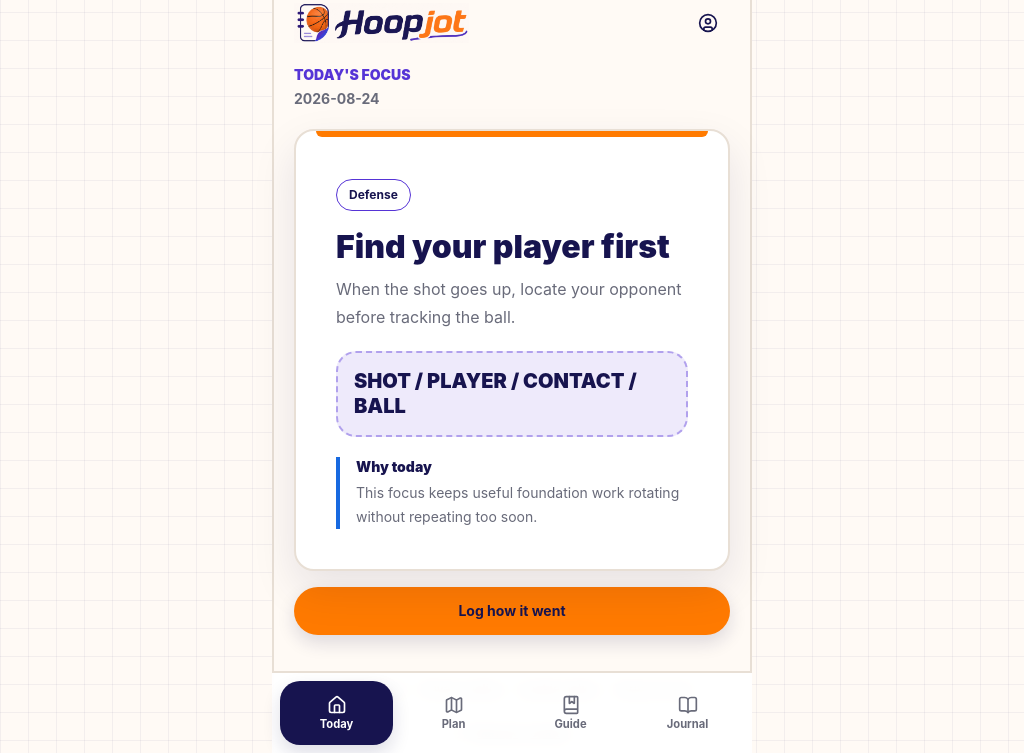
TodayRoute › reuses an incomplete Game session and changes it to Practice when the user keeps the default
Step 1. Click the button "Log how it went" → (512, 611), box x1=294 y1=587 x2=730 y2=635
(page scrolled)
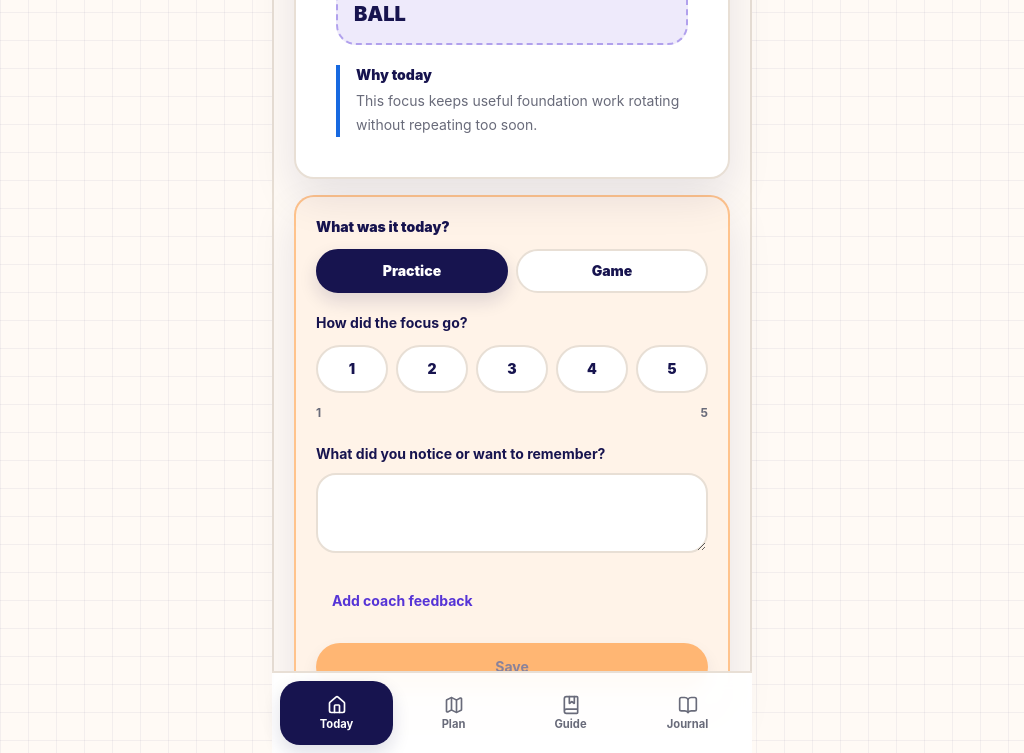
Step 2. Click the radio button named "4 of 5" → (592, 369), box x1=556 y1=345 x2=628 y2=393
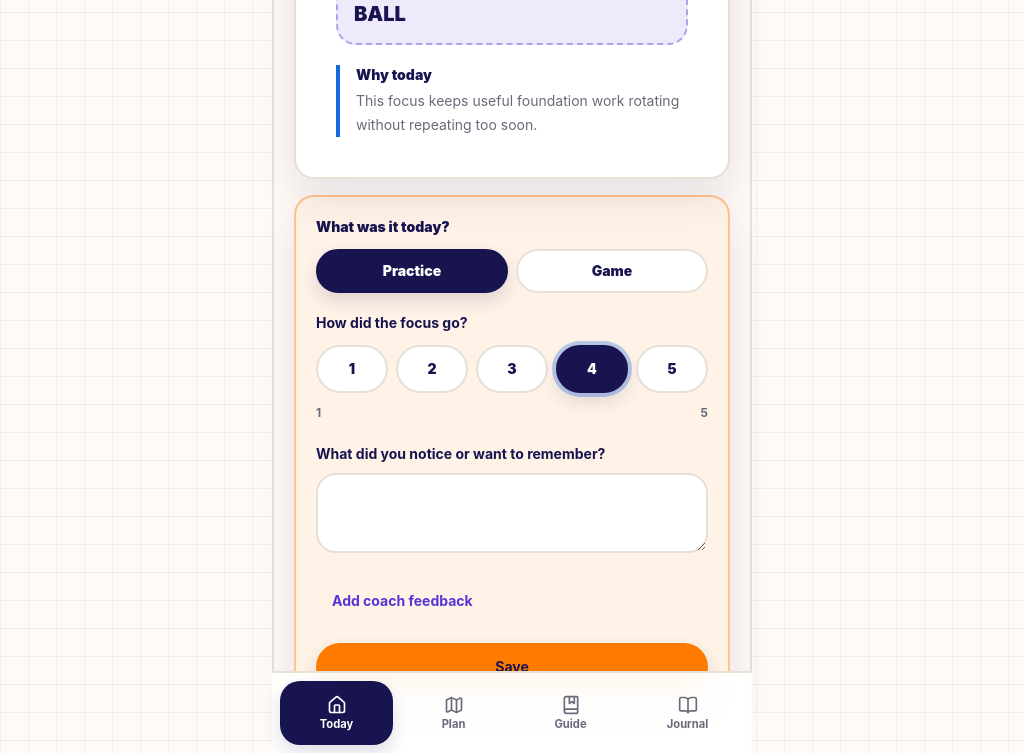
Step 3. Click the button "Save" → (512, 667), box x1=316 y1=643 x2=708 y2=691
(page scrolled)
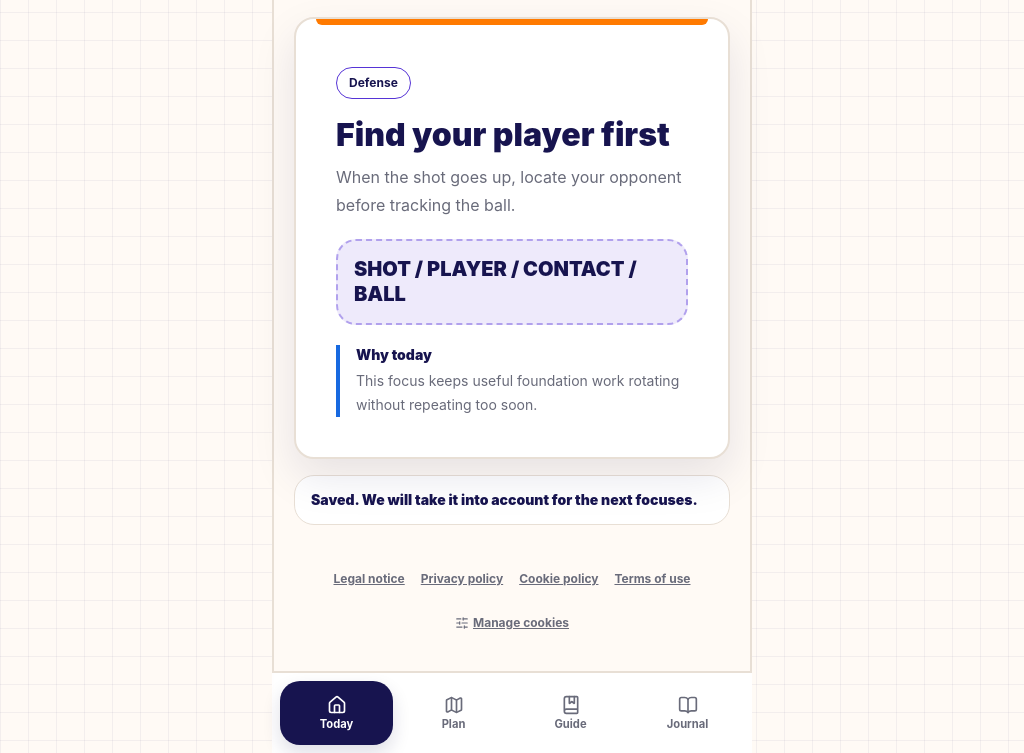
Now the text "Saved. We will take it into account for the next focuses." is shown, box x1=294 y1=475 x2=730 y2=525
